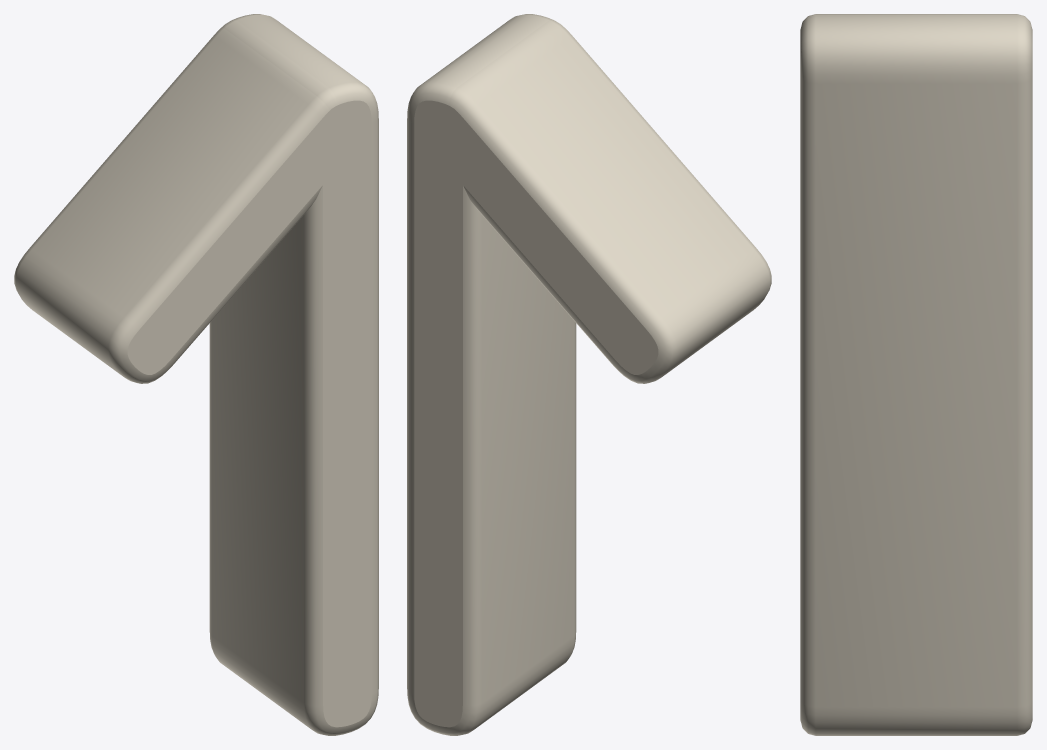
The model's file is number_1.glb.
The picture shows the model from 3 angles, left to right: view 1: azimuth 30°, elevation 25°; view 2: azimuth 150°, elevation 25°; view 3: azimuth 270°, elevation 25°; orthographic projection. The views are drawn at different scales.
Visible parts, largest first — view 1: color_body; view 2: color_body; view 3: color_body.
Part boxes in pixels (x1=…): color_body: x1=14, y1=14, x2=378, y2=735; color_body: x1=407, y1=14, x2=771, y2=735; color_body: x1=800, y1=14, x2=1032, y2=735.
Size of the model in its own units: 0.3533 by 0.816 by 0.242.
